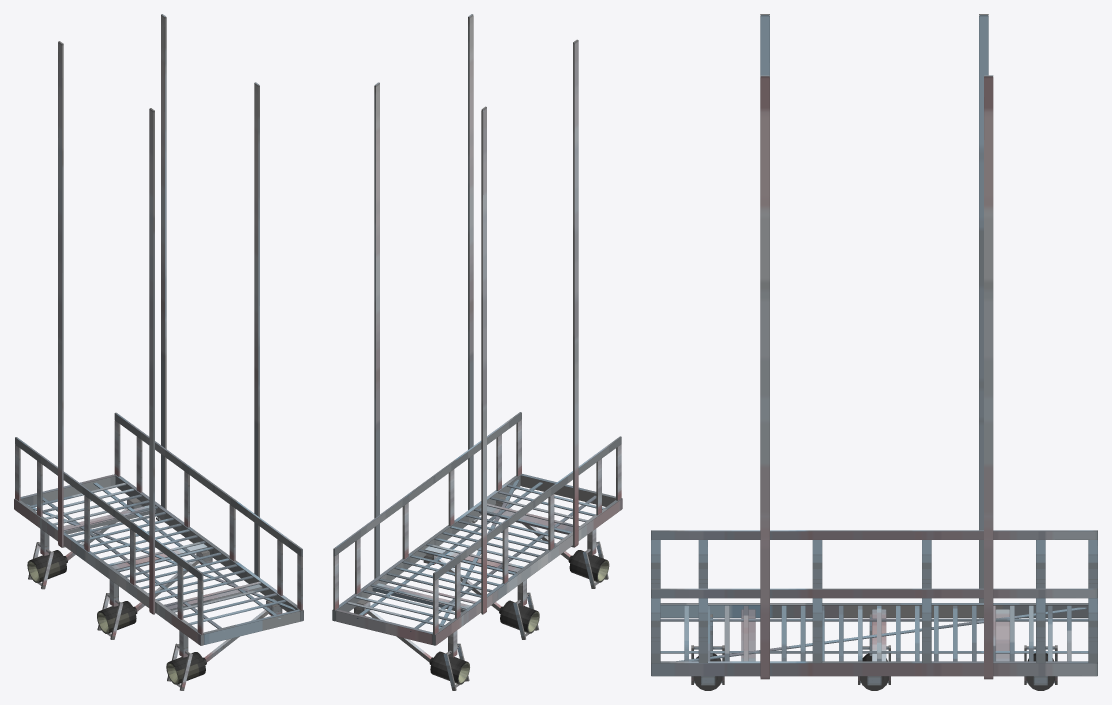
File: Scaffolding_3.fbx
The picture shows the model from 3 angles, left to right: view 1: azimuth 30°, elevation 25°; view 2: azimuth 150°, elevation 25°; view 3: azimuth 270°, elevation 25°; orthographic projection. The views are drawn at different scales.
Parts seen in each view (by area): view 1: cuboid_33, One of the Legs, cuboid, cuboid_32, cuboid_1, cuboid_2, cuboid_35, cuboid_34, cuboid_3, cuboid_4, cylinder_1, cylinder (+5 smaller); view 2: cuboid_33, One of the Legs, cuboid_32, cuboid, cuboid_1, cuboid_2, cuboid_35, cuboid_34, cuboid_4, cuboid_3, cylinder_2, cylinder_1 (+5 smaller); view 3: cuboid_2, cuboid, cuboid_32, cuboid_35, cuboid_1, cuboid_34, One of the Legs, cuboid_15, cuboid_16, cuboid_17, cuboid_5, Cuboids_8.
Boxes of the visible parts, box(x1,y1,x2,y2) form: cuboid_33: box(149, 108, 154, 614); One of the Legs: box(58, 41, 63, 547); cuboid: box(254, 82, 259, 577); cuboid_32: box(161, 14, 166, 509); cuboid_1: box(14, 498, 203, 645); cuboid_2: box(114, 474, 303, 621); cuboid_35: box(114, 412, 302, 556); cuboid_34: box(15, 437, 203, 580); cuboid_3: box(203, 609, 300, 644); cuboid_4: box(20, 474, 115, 505); cylinder_1: box(97, 601, 137, 633); cylinder: box(166, 652, 206, 684); cuboid_33: box(573, 39, 578, 547); One of the Legs: box(481, 106, 486, 614); cuboid_32: box(374, 82, 379, 578); cuboid: box(468, 14, 473, 510); cuboid_1: box(432, 498, 622, 645); cuboid_2: box(332, 474, 521, 621); cuboid_35: box(333, 412, 521, 556); cuboid_34: box(433, 436, 621, 580); cuboid_4: box(335, 609, 432, 644); cuboid_3: box(520, 474, 615, 506); cylinder_2: box(429, 651, 469, 684); cylinder_1: box(499, 600, 539, 633); cuboid_2: box(651, 661, 1097, 676); cuboid: box(760, 75, 769, 679); cuboid_32: box(984, 75, 993, 679); cuboid_35: box(651, 588, 1097, 598); cuboid_1: box(660, 603, 1088, 617); cuboid_34: box(651, 530, 1097, 539); One of the Legs: box(979, 14, 988, 602); cuboid_15: box(660, 618, 1088, 621); cuboid_16: box(676, 607, 1086, 661); cuboid_17: box(660, 651, 1088, 653); cuboid_5: box(995, 609, 1009, 661); Cuboids_8: box(812, 598, 822, 662).
Bounding box in the file's own units: 201 × 972 × 588.
4 materials, 4 textured.
